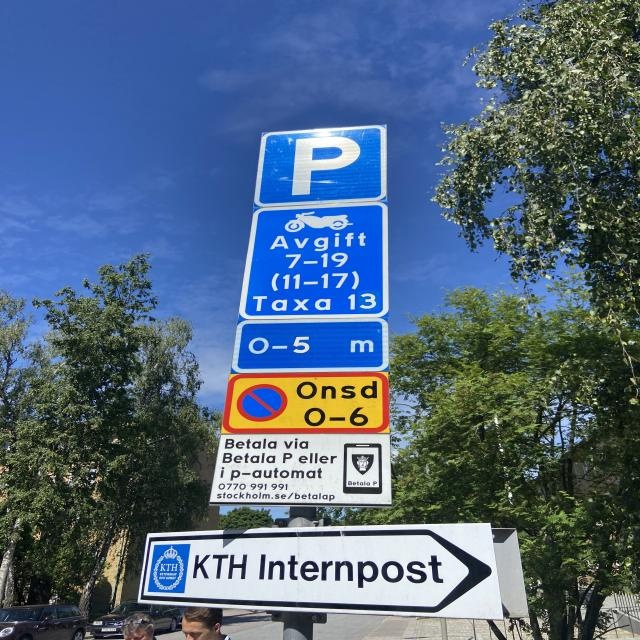P-skylt: (262, 133, 383, 199)
